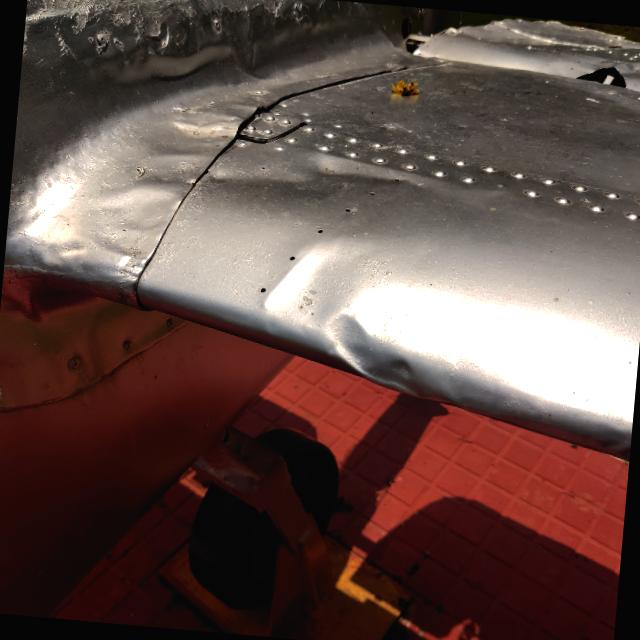dent: (312, 286, 482, 424), (245, 137, 422, 222)
